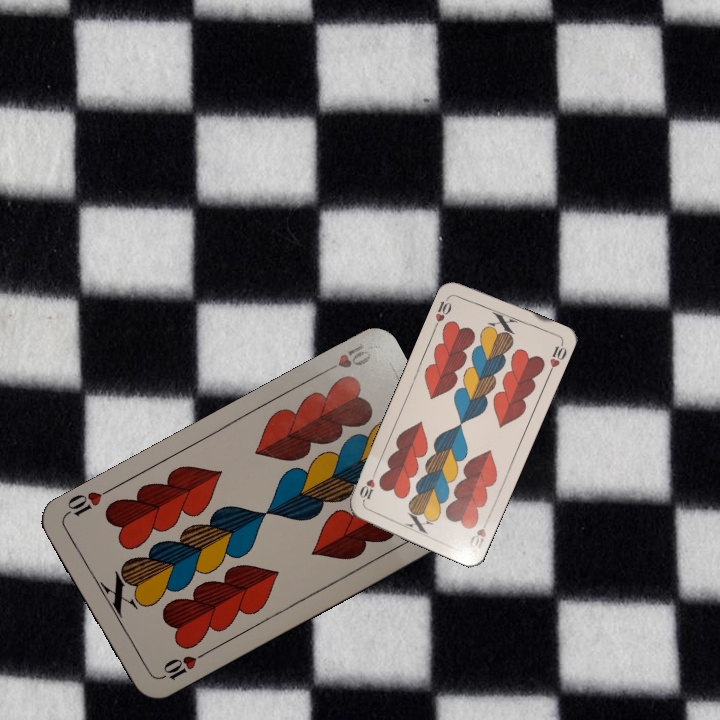H10: (317, 340, 374, 377), (152, 648, 208, 683), (465, 514, 492, 554), (431, 292, 454, 325)
